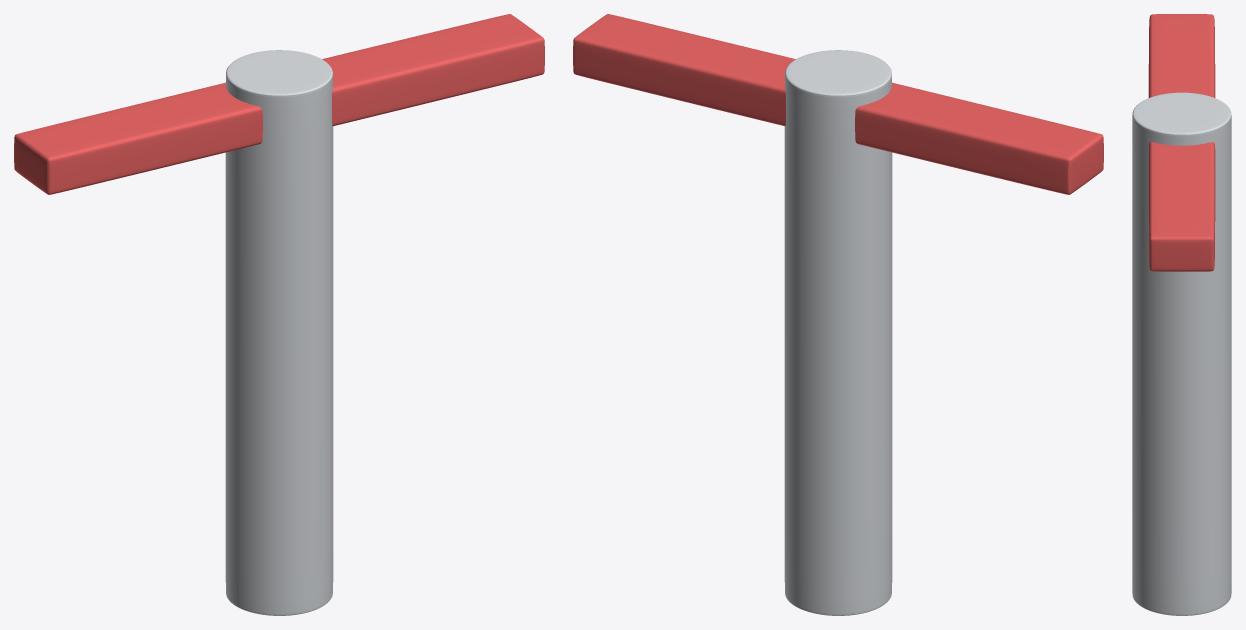
Rendered from Toy_Spinner_Hi_000957.fbx.
3 renders of one model, left to right at view 1: azimuth 30°, elevation 25°; view 2: azimuth 150°, elevation 25°; view 3: azimuth 270°, elevation 25°, orthographic. The views are drawn at different scales.
Visible parts, largest first — view 1: Cylinder, Cube; view 2: Cylinder, Cube; view 3: Cylinder, Cube.
Boxes of the visible parts, box(x1,y1,x2,y2) form: Cylinder: box(225, 50, 333, 615); Cube: box(14, 14, 544, 194); Cylinder: box(784, 50, 892, 615); Cube: box(573, 14, 1103, 194); Cylinder: box(1132, 92, 1231, 615); Cube: box(1148, 14, 1215, 271).
Size of the model in its own units: 1.6 by 1.6 by 0.2991.
